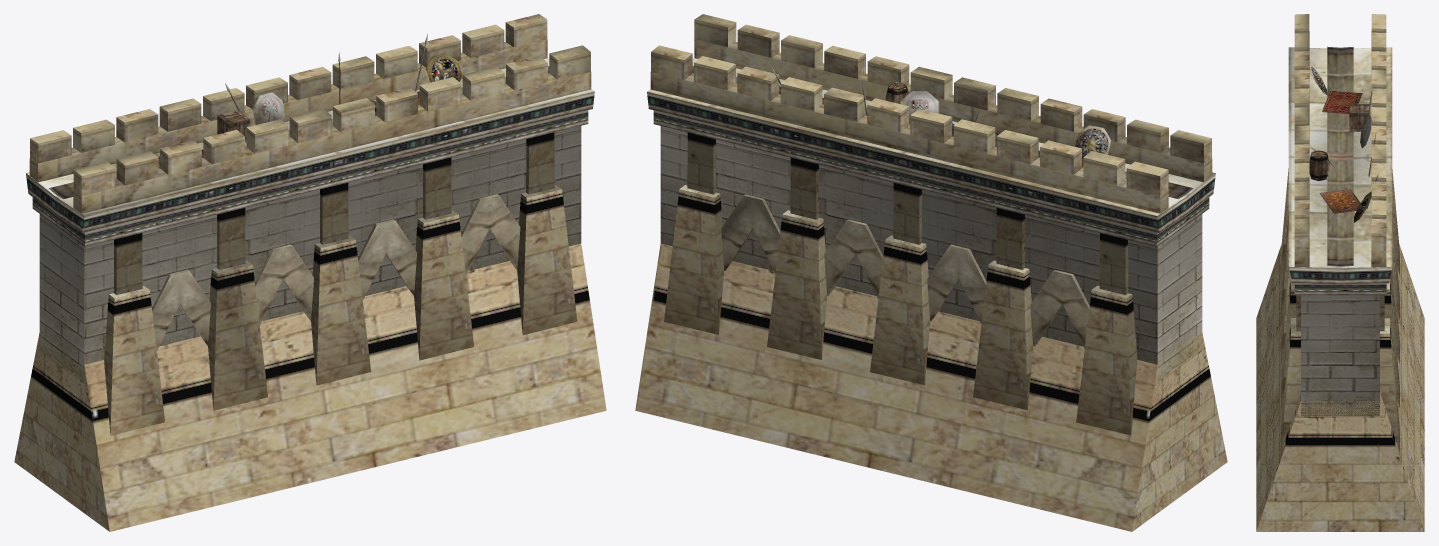
The model's file is cart_wall_segment.glb.
3 renders of one model, left to right at view 1: azimuth 30°, elevation 25°; view 2: azimuth 150°, elevation 25°; view 3: azimuth 270°, elevation 25°, orthographic. The views are drawn at different scales.
Visible parts, largest first — view 1: cart_wall_segment_part0; view 2: cart_wall_segment_part0; view 3: cart_wall_segment_part0.
Part boxes in pixels (x1,y1,x2,y2): cart_wall_segment_part0: [14, 14, 606, 531]; cart_wall_segment_part0: [635, 14, 1227, 531]; cart_wall_segment_part0: [1256, 14, 1424, 531].
Size of the model in its own units: 2 by 1.34 by 0.6481.
Materials: 1 (1 with a texture image).
